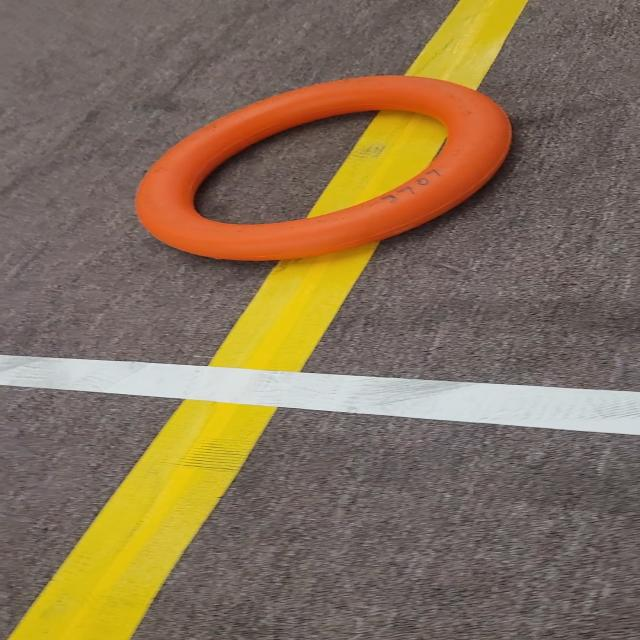note: (123, 70, 542, 278)
